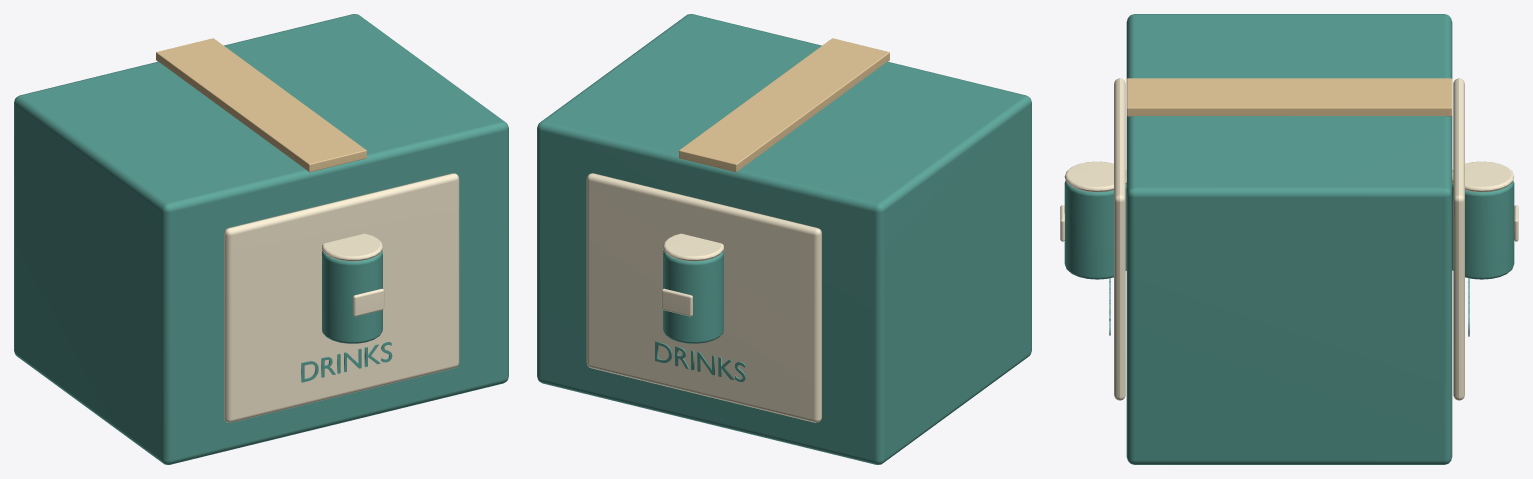
File: crate-drinks.glb
The picture shows the model from 3 angles, left to right: view 1: azimuth 30°, elevation 25°; view 2: azimuth 150°, elevation 25°; view 3: azimuth 270°, elevation 25°; orthographic projection. The views are drawn at different scales.
Visible parts, largest first — view 1: carton.body, badge.plate.front, carton.tape, badge.can.front, badge.can.lid.front, badge.text.front_export, badge.can.band.front; view 2: carton.body, badge.plate.back, carton.tape, badge.can.back, badge.can.lid.back, badge.text.back_export, badge.can.band.back; view 3: carton.body, carton.tape, badge.can.back, badge.can.front, badge.plate.back, badge.plate.front, badge.can.lid.back, badge.can.lid.front.
Boxes of the visible parts, bbox=[...] form: carton.body: bbox=[14, 14, 508, 464]; badge.plate.front: bbox=[224, 173, 459, 422]; carton.tape: bbox=[156, 38, 366, 172]; badge.can.front: bbox=[322, 250, 382, 343]; badge.can.lid.front: bbox=[322, 233, 382, 261]; badge.text.front_export: bbox=[301, 342, 392, 382]; badge.can.band.front: bbox=[353, 288, 384, 316]; carton.body: bbox=[537, 14, 1031, 464]; badge.plate.back: bbox=[586, 173, 821, 422]; carton.tape: bbox=[679, 38, 889, 172]; badge.can.back: bbox=[663, 250, 723, 343]; badge.can.lid.back: bbox=[663, 233, 723, 261]; badge.text.back_export: bbox=[655, 341, 745, 381]; badge.can.band.back: bbox=[661, 288, 692, 316]; carton.body: bbox=[1126, 14, 1452, 464]; carton.tape: bbox=[1126, 78, 1452, 116]; badge.can.back: bbox=[1452, 180, 1514, 279]; badge.can.front: bbox=[1064, 180, 1126, 279]; badge.plate.back: bbox=[1453, 78, 1464, 400]; badge.plate.front: bbox=[1114, 78, 1125, 400]; badge.can.lid.back: bbox=[1452, 161, 1514, 192]; badge.can.lid.front: bbox=[1064, 161, 1126, 192].
Bounding box in the file's own units: 0.43 × 0.319 × 0.465.
